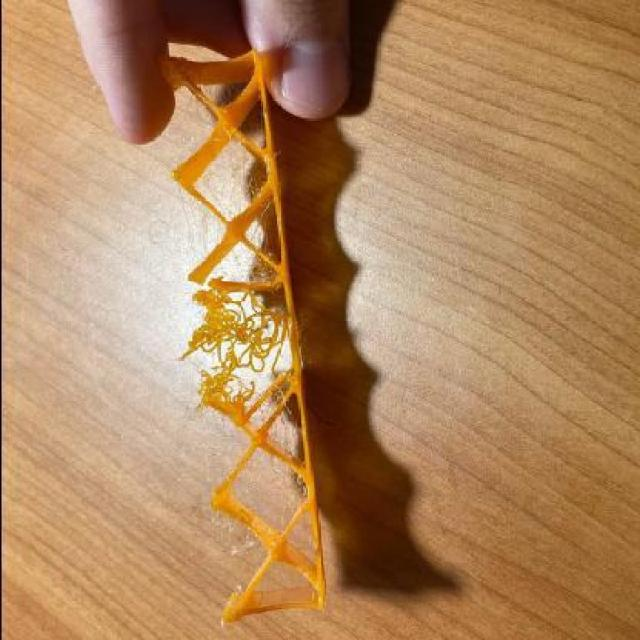Spaghetti: (177, 270, 303, 425)
